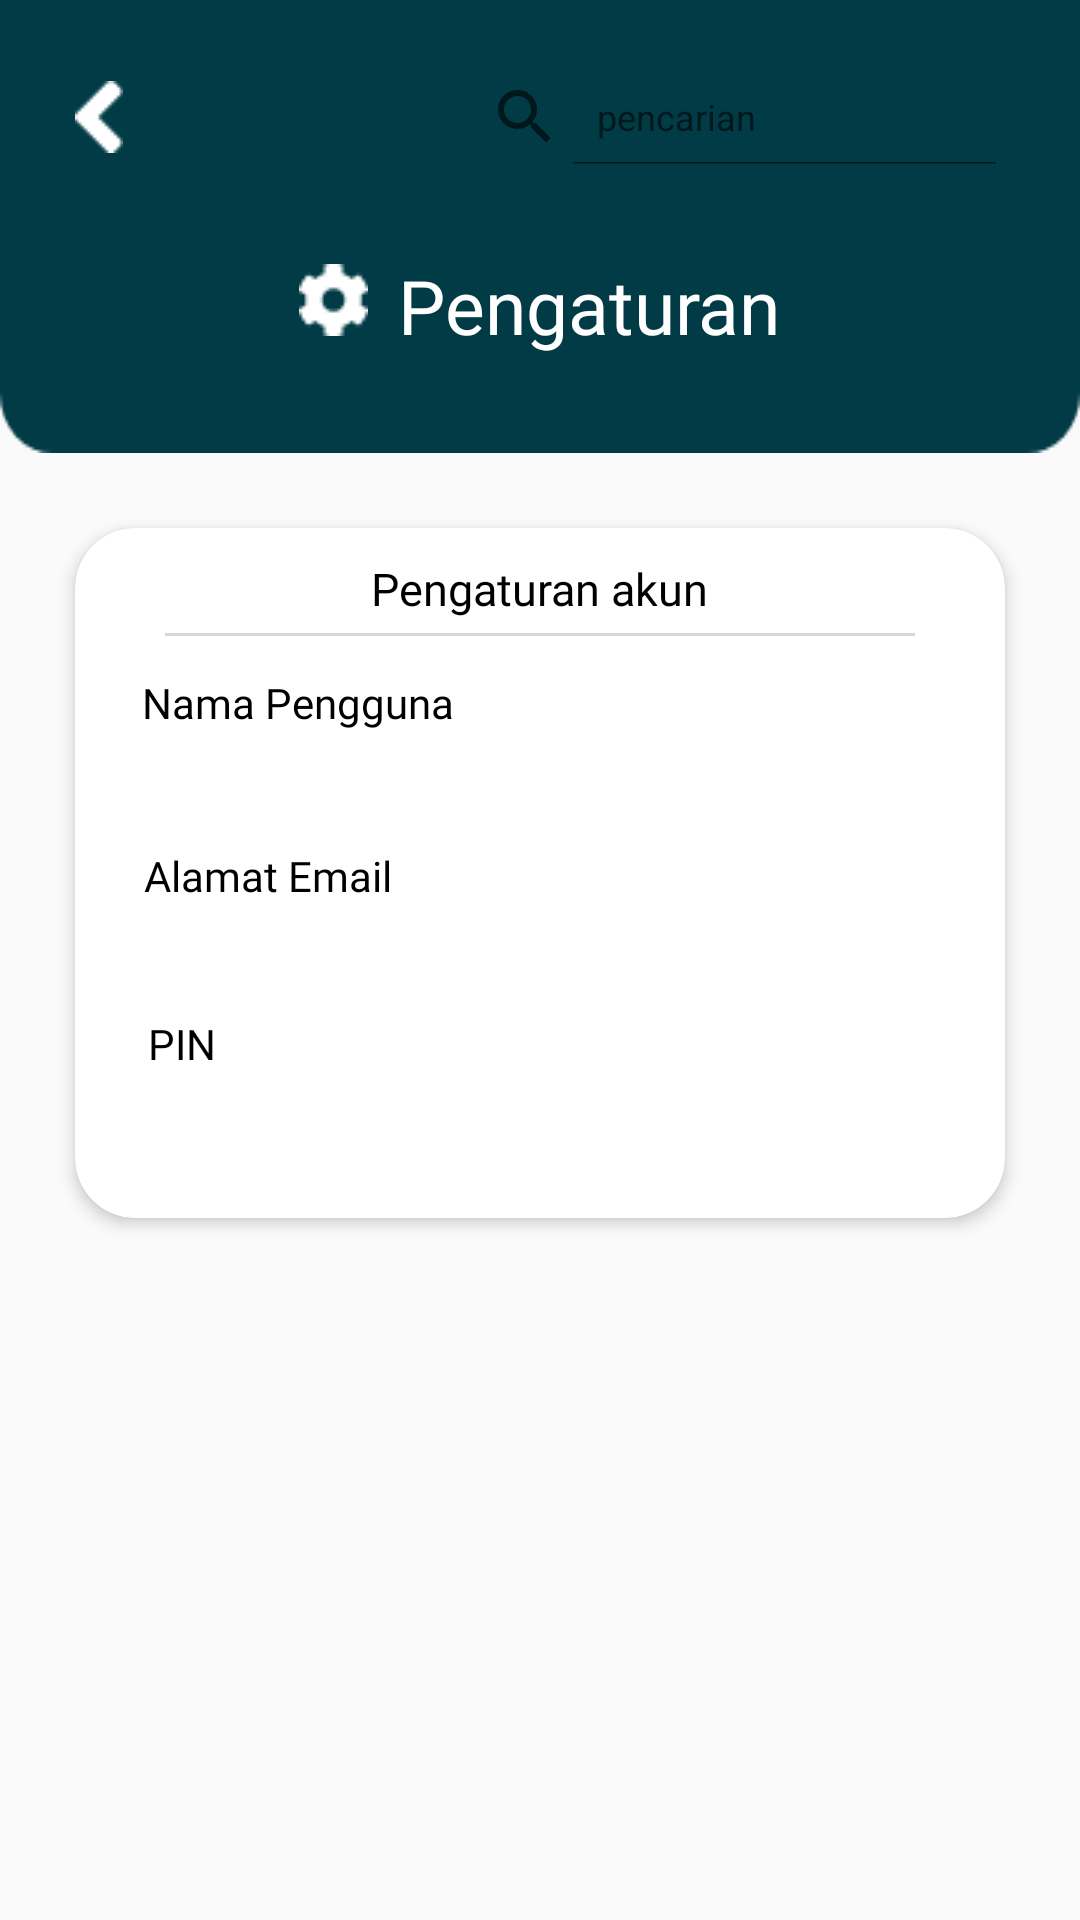

Screen size 1080px x 1920px. Icon name, then its center in pixels as point (x, y):
btnleft: point (99, 117)
